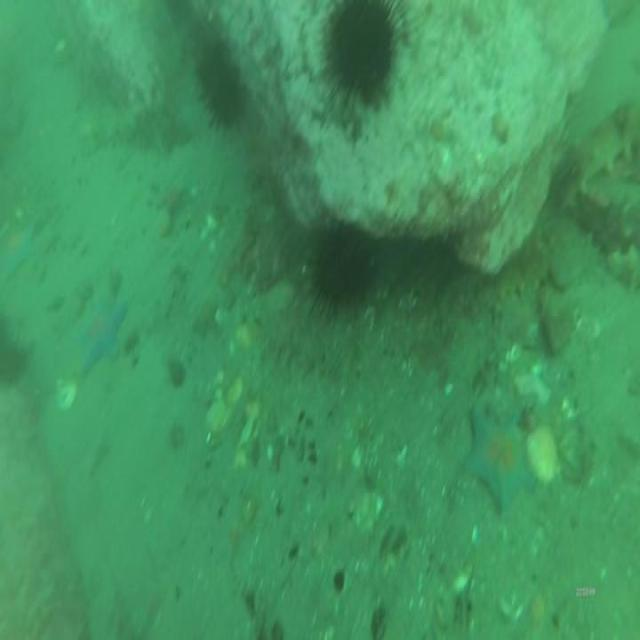echinus: (330, 2, 397, 102), (316, 228, 374, 310), (193, 56, 244, 126)
holothurian: (558, 100, 638, 218), (494, 248, 548, 300)
starfish: (462, 408, 535, 509), (77, 299, 126, 373), (3, 228, 36, 276)
